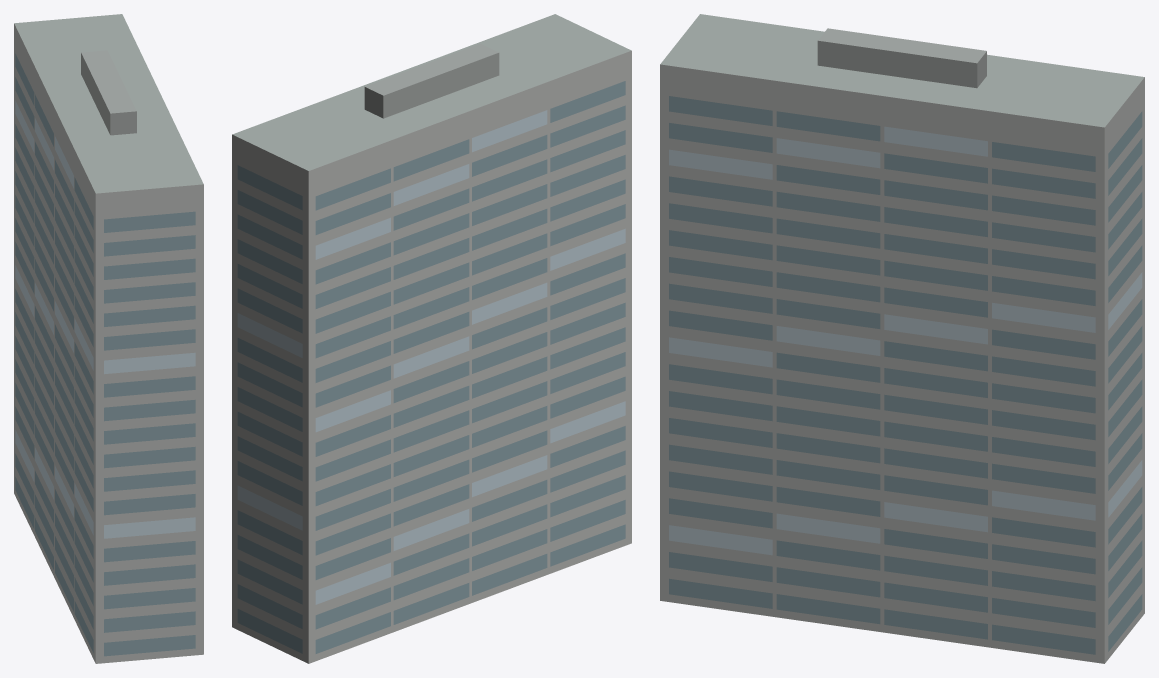
Rendered from fallback-jamsil-els-127.glb.
3 views of the same model, side by side, from view 1: azimuth 30°, elevation 25°; view 2: azimuth 150°, elevation 25°; view 3: azimuth 270°, elevation 25° (orthographic). The views are drawn at different scales.
Visible parts, largest first — view 1: fallback-jamsil-els-127; view 2: fallback-jamsil-els-127; view 3: fallback-jamsil-els-127.
Boxes of the visible parts, x1=… form: fallback-jamsil-els-127: x1=14, y1=14, x2=203, y2=663; fallback-jamsil-els-127: x1=232, y1=14, x2=631, y2=663; fallback-jamsil-els-127: x1=660, y1=14, x2=1144, y2=663.
Bounding box in the file's own units: 23.43 × 54 × 42.26.
